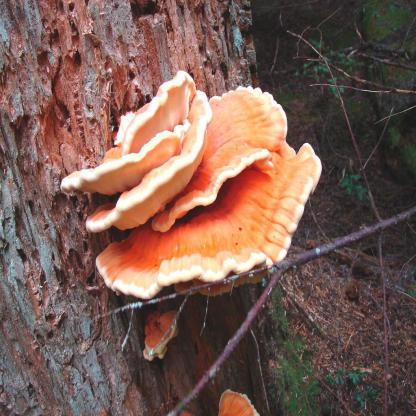CoW: (60, 70, 321, 298)
